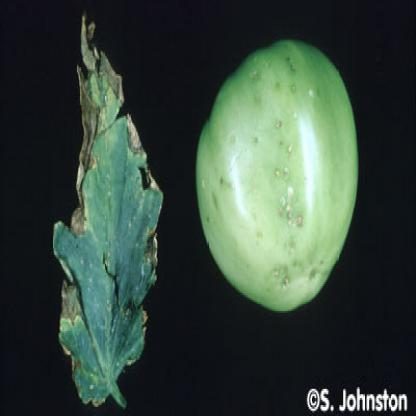tomato leaf bacterial spot: (48, 14, 163, 411)
